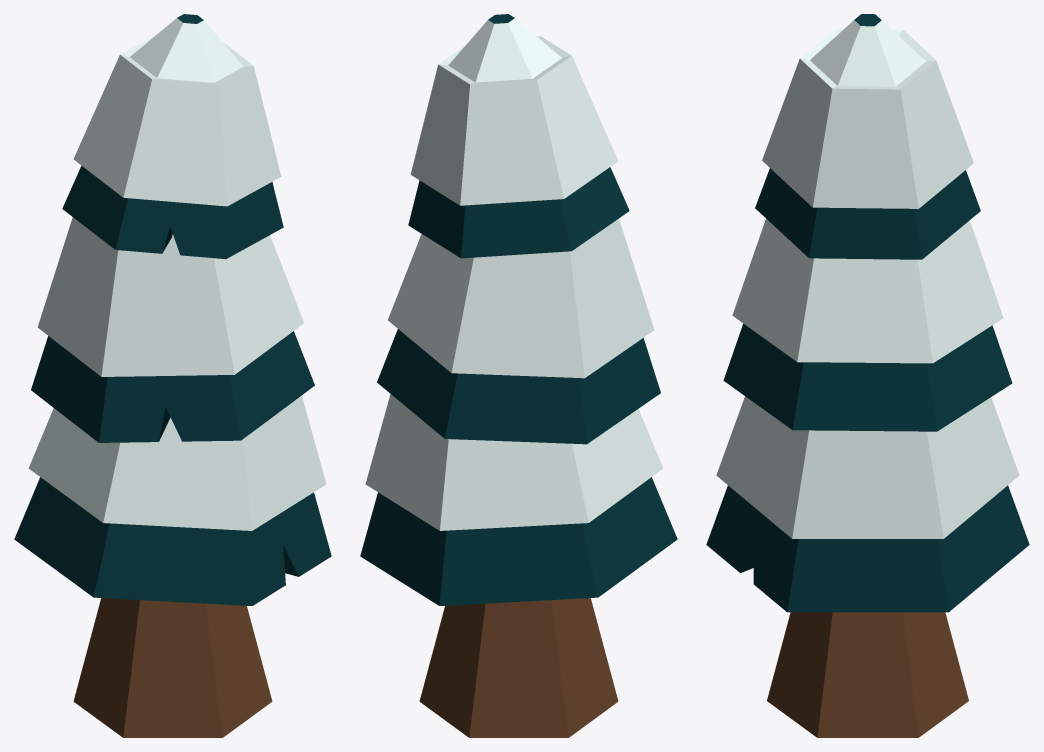
File: Mesh_Tree_Fir.glb
3 views of the same model, side by side, from view 1: azimuth 30°, elevation 25°; view 2: azimuth 150°, elevation 25°; view 3: azimuth 270°, elevation 25° (orthographic).
Parts seen in each view (by area): view 1: Mesh_Tree_Fir; view 2: Mesh_Tree_Fir; view 3: Mesh_Tree_Fir.
Boxes of the visible parts, <box> form: Mesh_Tree_Fir: <box>14,14,331,737</box>; Mesh_Tree_Fir: <box>360,14,677,737</box>; Mesh_Tree_Fir: <box>706,14,1029,737</box>.
Bounding box in the file's own units: 0.5431 × 1.48 × 0.6286.
1 material, 1 textured.
